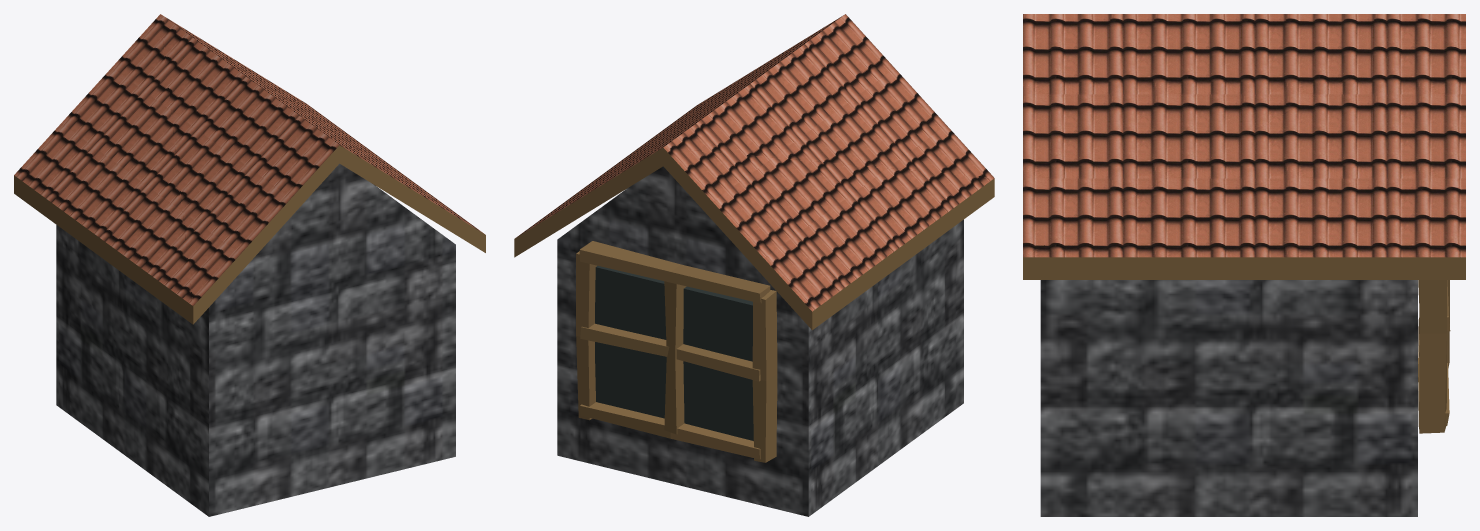
The model's file is town_Dormer_slate.glb.
The picture shows the model from 3 angles, left to right: view 1: azimuth 30°, elevation 25°; view 2: azimuth 150°, elevation 25°; view 3: azimuth 270°, elevation 25°; orthographic projection. The views are drawn at different scales.
Visible parts, largest first — view 1: town_Dormer_slate.005; view 2: town_Dormer_slate.005; view 3: town_Dormer_slate.005.
Boxes of the visible parts, box(x1,y1,x2,y2) form: town_Dormer_slate.005: box(14, 14, 485, 516); town_Dormer_slate.005: box(514, 14, 994, 516); town_Dormer_slate.005: box(1023, 14, 1465, 516).
Size of the model in its own units: 1.66 by 1.88 by 1.76.
3 materials, 2 textured.
